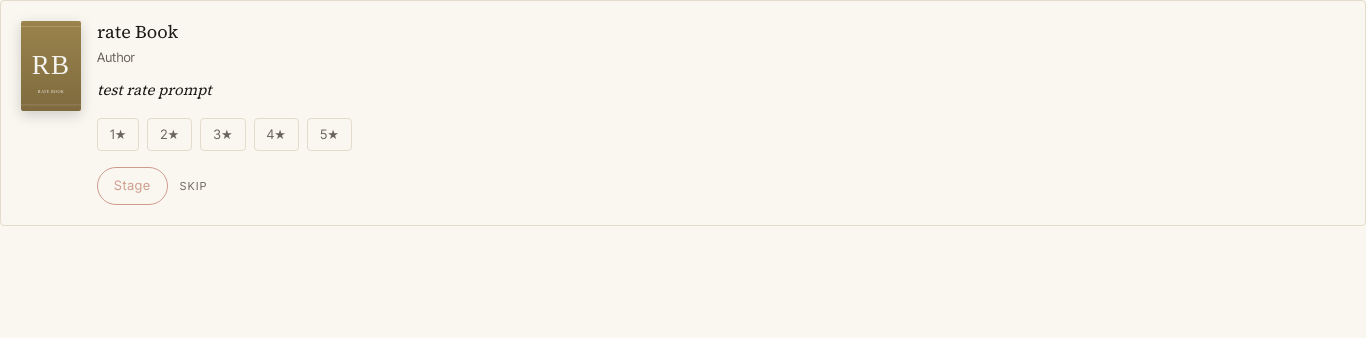
Test case: BackfillCards — staging UI › lets a staged card be re-edited (Edit → answer → restage)
Click the button named "4 stars". click: (276, 134)
box: x1=254 y1=118 x2=299 y2=151
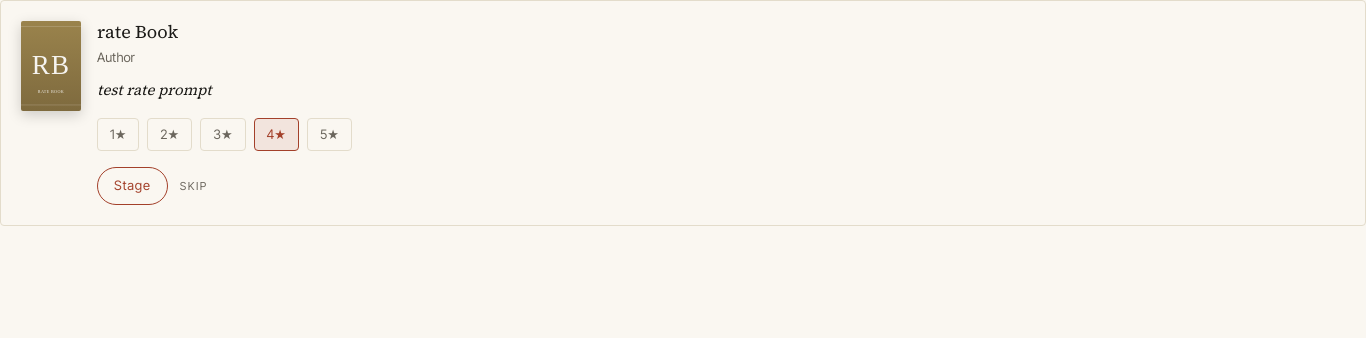
Click the button "Stage". click: (132, 186)
box: x1=97 y1=167 x2=168 y2=204
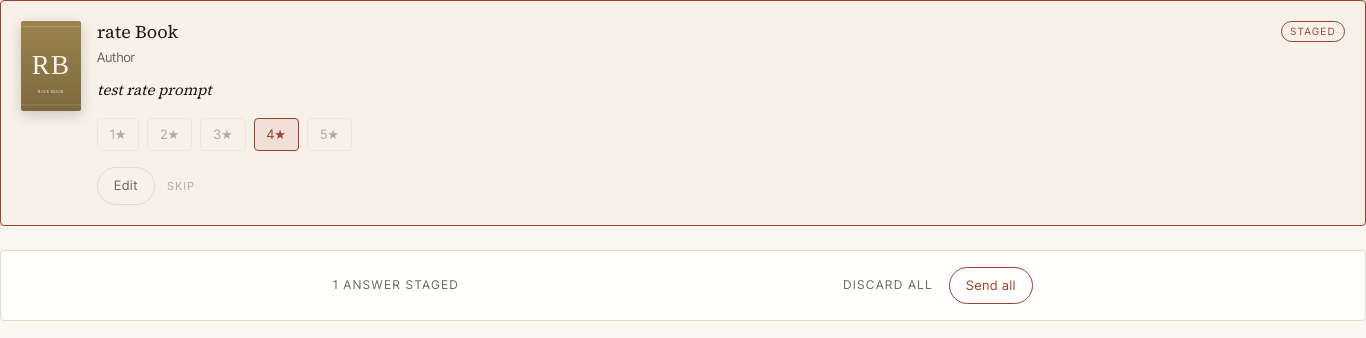
Click the button "Edit". click: (126, 186)
box: x1=97 y1=167 x2=155 y2=204
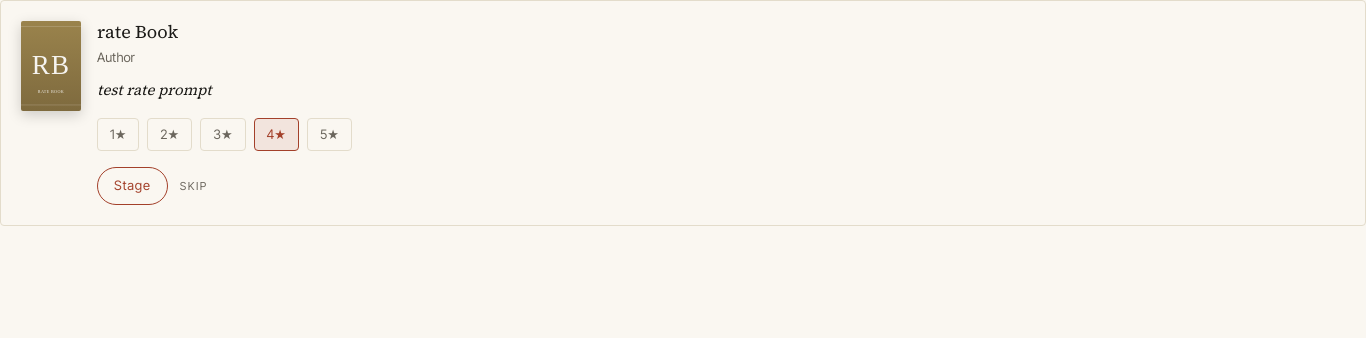
Check: the button "Stage" is shown, box x1=97 y1=167 x2=168 y2=204
Check: the element with test id "stage-footer" is gone
Note: Change the answer, restage.
Click the button named "5 stars". click: (329, 134)
box: x1=307 y1=118 x2=352 y2=151
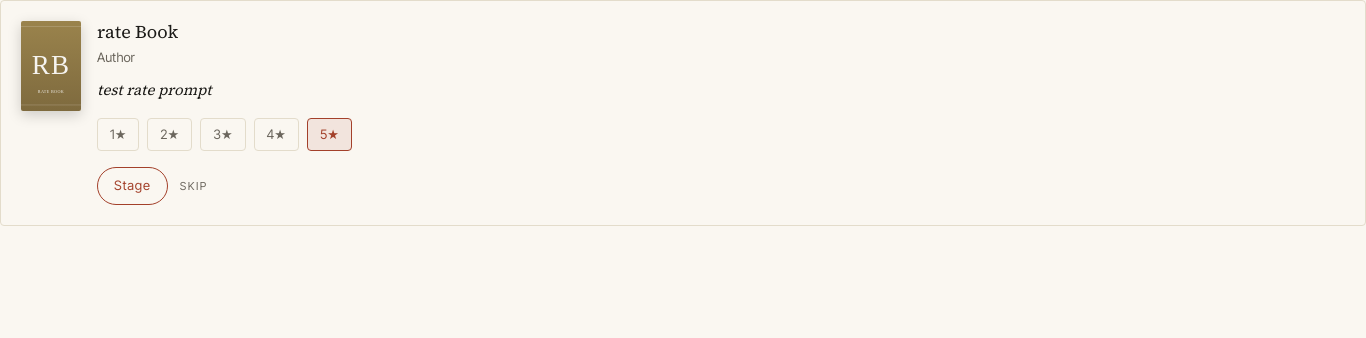
Click the button "Stage". click: (132, 186)
box: x1=97 y1=167 x2=168 y2=204
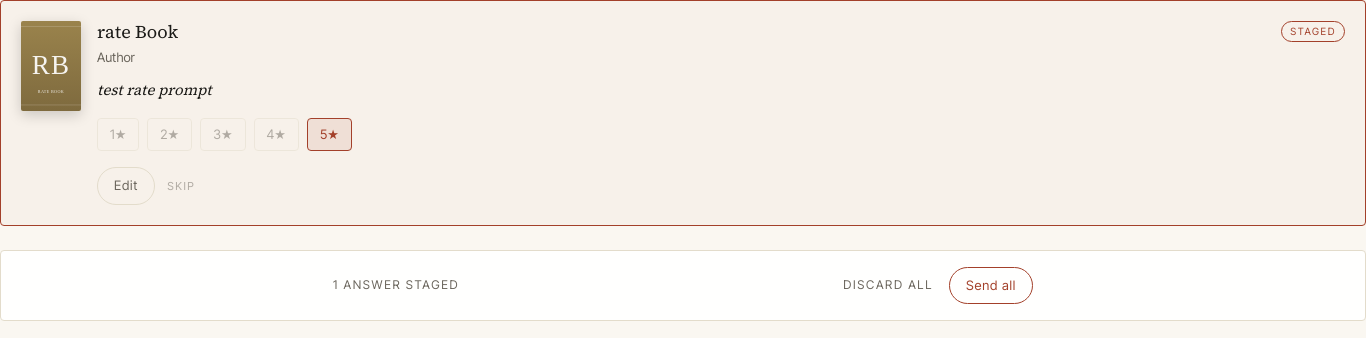
Check: the text "staged" is shown, box x1=1281 y1=21 x2=1345 y2=42
